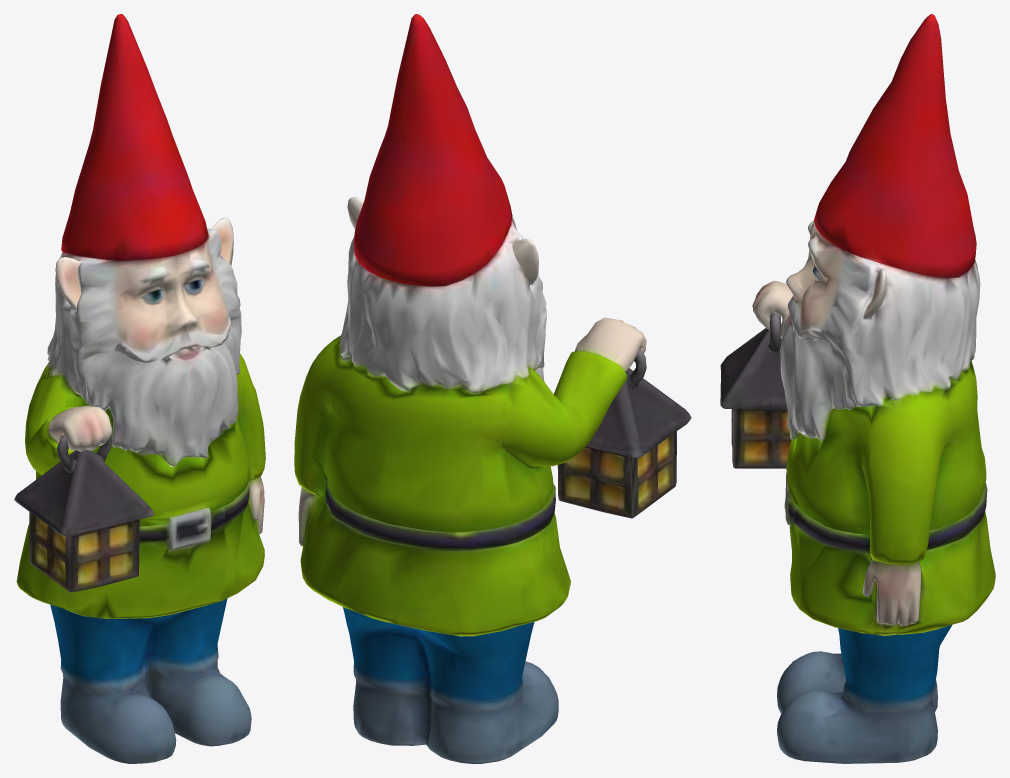
The model's file is garden_gnome.glb.
The picture shows the model from 3 angles, left to right: view 1: azimuth 30°, elevation 25°; view 2: azimuth 150°, elevation 25°; view 3: azimuth 270°, elevation 25°; orthographic projection. The views are drawn at different scales.
Visible parts, largest first — view 1: garden_gnome; view 2: garden_gnome; view 3: garden_gnome.
Part boxes in pixels (x1,y1,x2,y2): garden_gnome: [14, 14, 265, 763]; garden_gnome: [294, 14, 691, 763]; garden_gnome: [720, 14, 995, 763].
Size of the model in its own units: 0.2574 by 0.5989 by 0.2097.
Materials: 1 (1 with a texture image).
